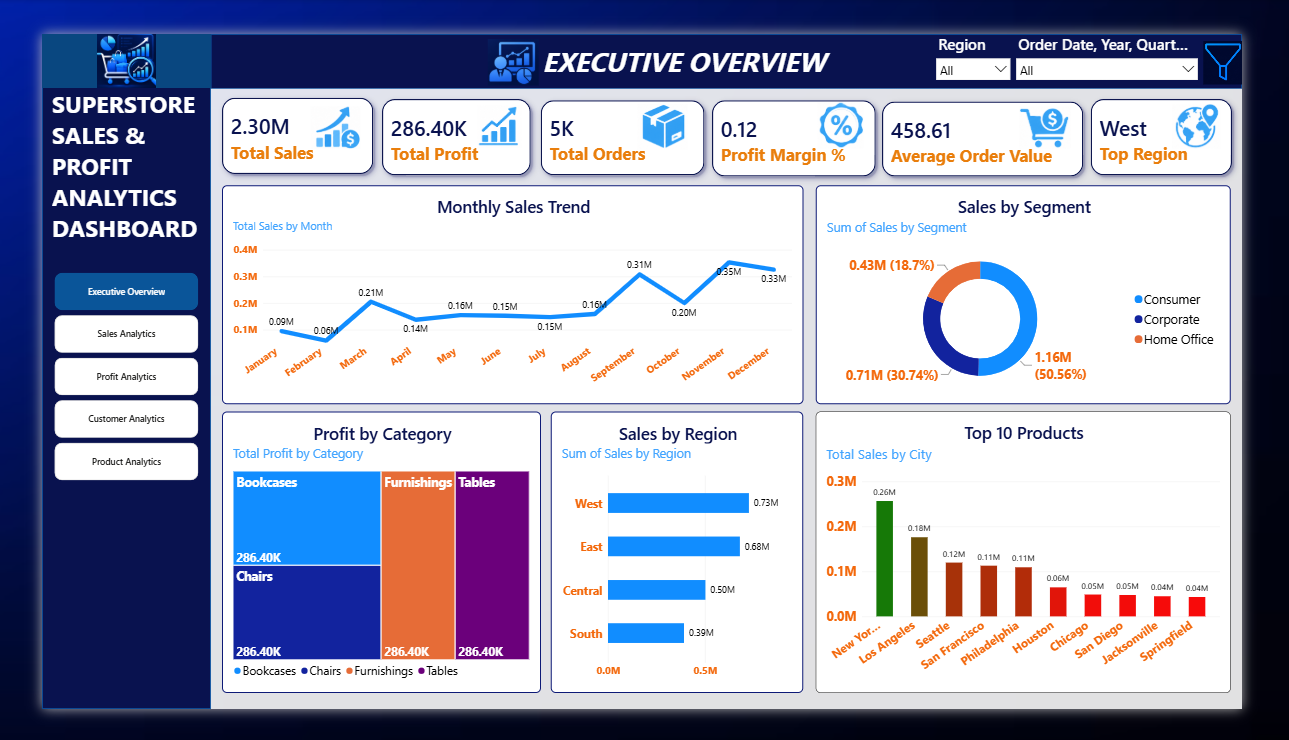

What the dashboard file says about the page in this screenshot:
{"tool":"powerbi","page":{"name":"Executive Overview","canvas":[1920,1080],"ordinal":0},"visuals":[{"type":"shape","box":[0,0,270,1080],"z":0},{"type":"textbox","box":[16,86,254,262],"z":1000},{"type":"pageNavigator","box":[20,382,230,336],"z":2000},{"type":"cardVisual","fields":{"Data":["Data.Total Sales"]},"box":[272,86,274,154],"z":3000},{"type":"cardVisual","fields":{"Data":["Data.Total Profit"]},"box":[528,88,270,154],"z":4000},{"type":"cardVisual","fields":{"Data":["Data.Average Order Value"]},"box":[1328,92,354,152],"z":5000},{"type":"cardVisual","fields":{"Data":["Data.Total Orders"]},"box":[782,90,294,152],"z":6000},{"type":"shape","box":[270,0,1650,87.5],"z":7000},{"type":"textbox","box":[270,456,310,624],"z":8000},{"type":"textbox","box":[736,14,582,60],"z":9000},{"type":"cardVisual","fields":{"Data":["Abbreviations.Top Region"]},"box":[1662,88,258,154],"z":10000},{"type":"clusteredBarChart","title":"Sales by Region","fields":{"Category":["Data.Region"],"Y":["Sum(Data.Sales)"]},"box":[814,604,404,450],"z":11000},{"type":"donutChart","title":" Sales by Segment","fields":{"Y":["Sum(Data.Sales)"],"Category":["Data.Segment"]},"box":[1238,242,664,350],"z":12000},{"type":"lineChart","title":"Monthly Sales Trend","fields":{"Y":["Data.Total Sales"],"Category":["Data.Order Date.Variation.Date Hierarchy.Year","Data.Order Date.Variation.Date Hierarchy.Quarter","Data.Order Date.Variation.Date Hierarchy.Month"]},"box":[288,242,930,350],"z":13000},{"type":"clusteredColumnChart","title":"Top 10 Products ","fields":{"Category":["Data.City"],"Y":["Data.Total Sales"]},"box":[1238,604,664,450],"z":14000},{"type":"slicer","fields":{"Values":["Data.Order Date.Variation.Date Hierarchy.Year","Data.Order Date.Variation.Date Hierarchy.Year1","Data.Order Date.Variation.Date Hierarchy.Quarter","Data.Order Date.Variation.Date Hierarchy.Month","Data.Order Date.Variation.Date Hierarchy.Day"]},"box":[1554,0,300,86],"z":15000},{"type":"treemap","title":"Profit by Category","fields":{"Group":["Category (TreeMap - Calculations).Category"],"Values":["Data.Total Profit"]},"box":[288,604,510,450],"z":16000},{"type":"cardVisual","fields":{"Data":["Data.Profit Margin %"]},"box":[1056,90,294,154],"z":17000},{"type":"slicer","fields":{"Values":["Data.Region"]},"box":[1426,0,128,100],"z":18000},{"type":"image","box":[426,116,88,68],"z":19000},{"type":"image","box":[694,114,76,68],"z":20000},{"type":"image","box":[930,112.5,125,72.5],"z":21000},{"type":"image","box":[1237.5,110,80,72.5],"z":22000},{"type":"image","box":[1552.5,115,105,67.5],"z":23000},{"type":"image","box":[1807.5,110,77.5,75],"z":24000},{"type":"image","box":[614,8,280,74],"z":25000},{"type":"image","box":[0,0,270,86],"z":26000},{"type":"image","box":[1858,0,62,92],"z":27000}]}

Visuals, with their boxes in screenshot pixels (x1, y1, x2, y2), scaled from the page's 1920x1080 canvas onto the 1289x740 screenshot:
shape: x1=0 y1=0 x2=181 y2=739
textbox: x1=11 y1=59 x2=181 y2=238
pageNavigator: x1=13 y1=262 x2=168 y2=492
cardVisual - Data.Total Sales: x1=183 y1=59 x2=367 y2=164
cardVisual - Data.Total Profit: x1=354 y1=60 x2=536 y2=166
cardVisual - Data.Average Order Value: x1=892 y1=63 x2=1129 y2=167
cardVisual - Data.Total Orders: x1=525 y1=62 x2=722 y2=166
shape: x1=181 y1=0 x2=1288 y2=60
textbox: x1=181 y1=312 x2=389 y2=739
textbox: x1=494 y1=10 x2=885 y2=51
cardVisual - Abbreviations.Top Region: x1=1116 y1=60 x2=1288 y2=166
"Sales by Region" clusteredBarChart: x1=546 y1=414 x2=818 y2=722
" Sales by Segment" donutChart: x1=831 y1=166 x2=1277 y2=406
"Monthly Sales Trend" lineChart: x1=193 y1=166 x2=818 y2=406
"Top 10 Products " clusteredColumnChart: x1=831 y1=414 x2=1277 y2=722
slicer - Data.Order Date.Variation.Date Hierarchy.Year x Data.Order Date.Variation.Date Hierarchy.Year1: x1=1043 y1=0 x2=1245 y2=59
"Profit by Category" treemap: x1=193 y1=414 x2=536 y2=722
cardVisual - Data.Profit Margin %: x1=709 y1=62 x2=906 y2=167
slicer - Data.Region: x1=957 y1=0 x2=1043 y2=69
image: x1=286 y1=79 x2=345 y2=126
image: x1=466 y1=78 x2=517 y2=125
image: x1=624 y1=77 x2=708 y2=127
image: x1=831 y1=75 x2=885 y2=125
image: x1=1042 y1=79 x2=1113 y2=125
image: x1=1213 y1=75 x2=1266 y2=127
image: x1=412 y1=5 x2=600 y2=56
image: x1=0 y1=0 x2=181 y2=59
image: x1=1247 y1=0 x2=1288 y2=63
